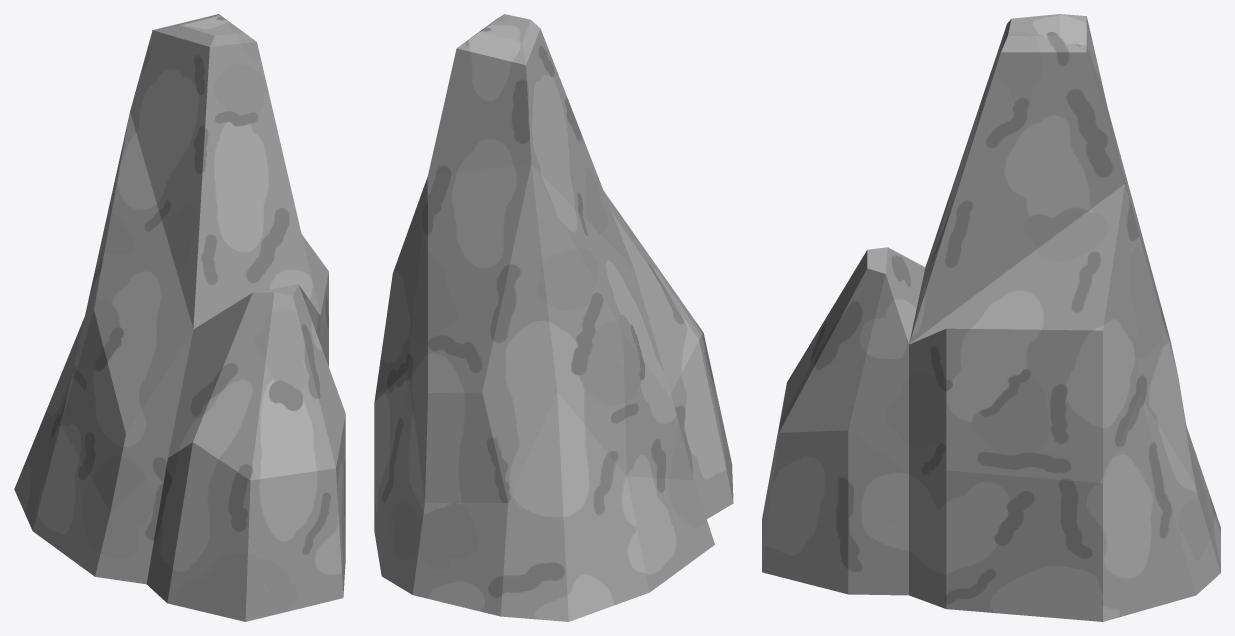
Rendered from rock.fbx.
The picture shows the model from 3 angles, left to right: view 1: azimuth 30°, elevation 25°; view 2: azimuth 150°, elevation 25°; view 3: azimuth 270°, elevation 25°; orthographic projection. The views are drawn at different scales.
Visible parts, largest first — view 1: Rock; view 2: Rock; view 3: Rock.
Part boxes in pixels (x1,y1,x2,y2): Rock: (14,14,345,621); Rock: (374,14,733,621); Rock: (762,14,1220,621).
Size of the model in its own units: 189 by 342 by 261.
1 material, 1 textured.
